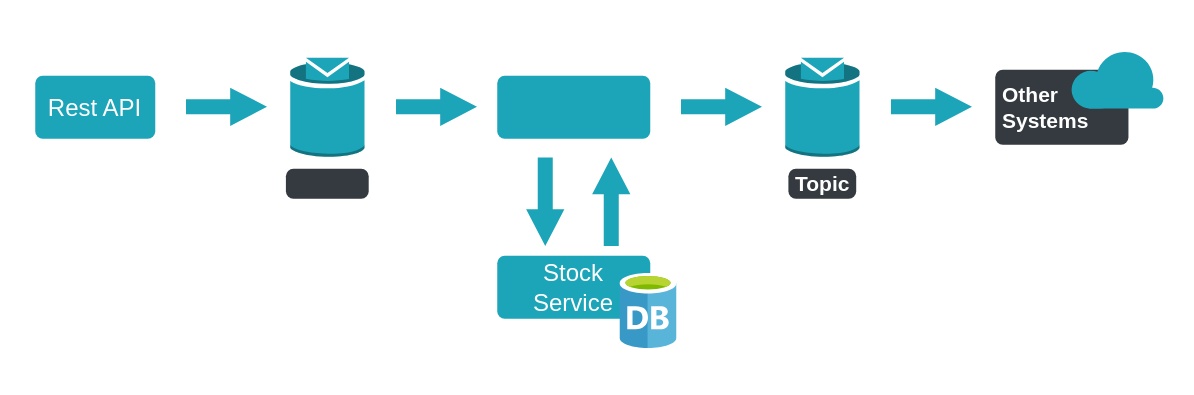
This 1194x395 diagram has some shape labels left out. Here are the shapes that lost their labels. From the top down, the centre of each, then its label:
At (x=573, y=106): "Orders Processor".
At (x=326, y=183): "Queue".
